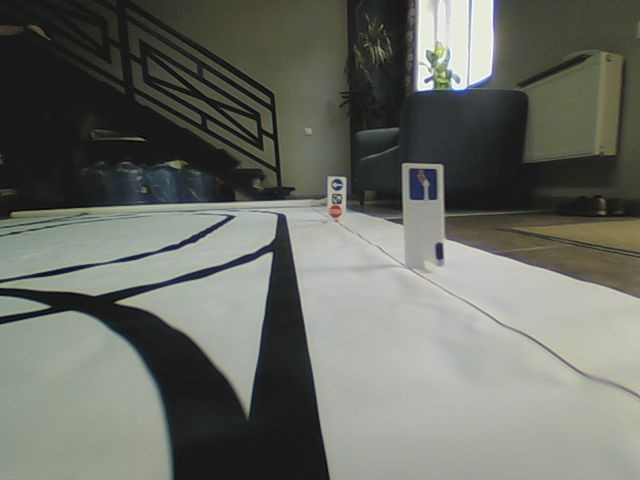priority_movement: (408, 167, 438, 201)
